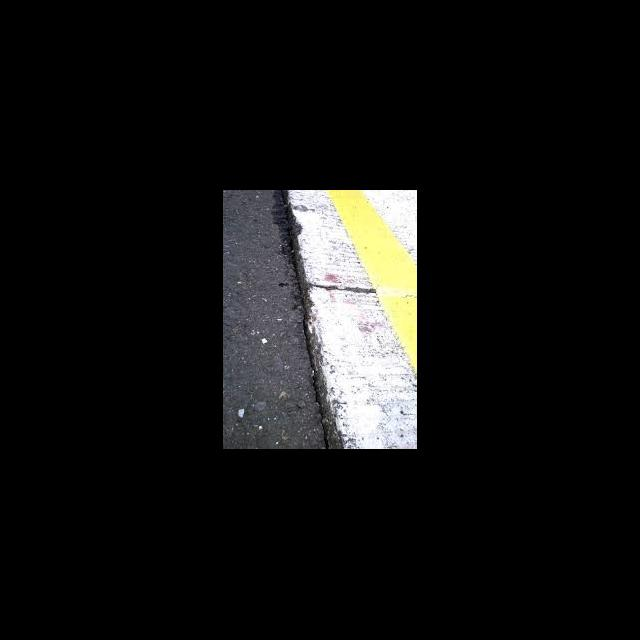retak_memanjang: (261, 190, 343, 450)
